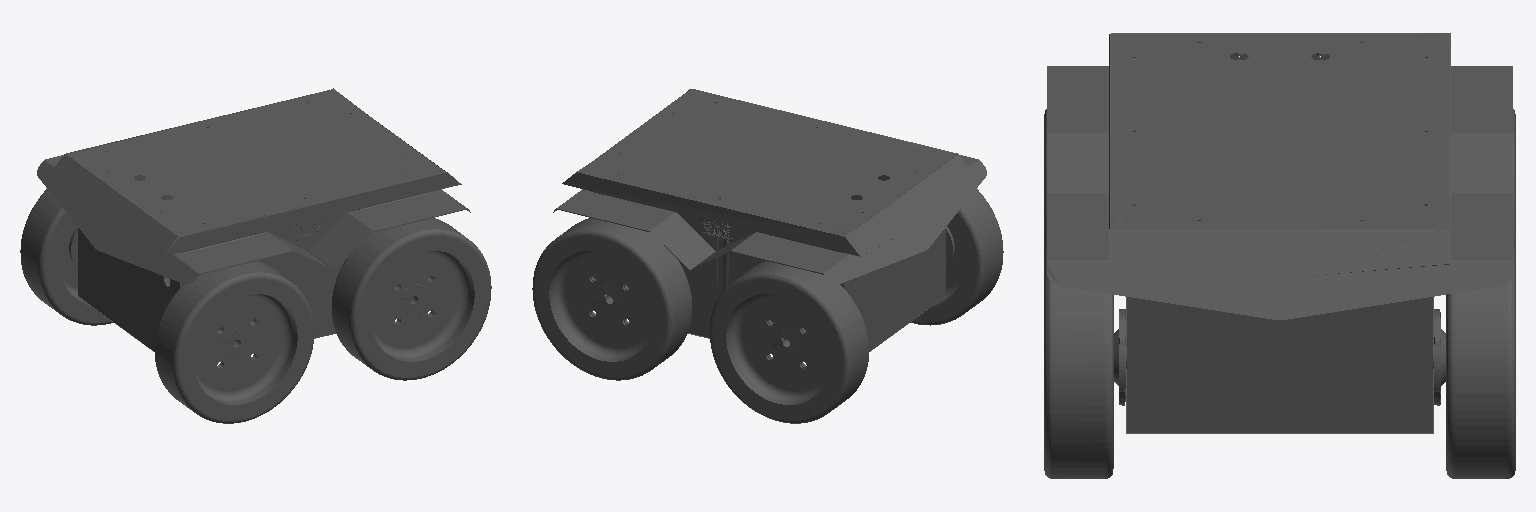
robot.urdf — yhs_chassis_description:
<?xml version="1.0" ?>
<robot name="yhs_chassis_description">

<!-- Init colour -->
<material name="black">
<color rgba="0.0 0.0 0.0 1.0"/>
</material>

<material name="dark">
<color rgba="0.3 0.3 0.3 1.0"/>
</material>

<material name="light_black">
<color rgba="0.4 0.4 0.4 1.0"/>
</material>

<material name="blue">
<color rgba="0.0 0.0 0.8 1.0"/>
</material>

<material name="green">
<color rgba="0.0 0.8 0.0 1.0"/>
</material>

<material name="grey">
<color rgba="0.5 0.5 0.5 1.0"/>
</material>

<material name="orange">
<color rgba="1.0 0.4235 0.0392 1.0"/>
</material>

<material name="brown">
<color rgba="0.8706 0.8118 0.7647 1.0"/>
</material>

<material name="red">
<color rgba="0.8 0.0 0.0 1.0"/>
</material>

<material name="white">
<color rgba="1.0 1.0 1.0 1.0"/>
</material>

<link name="base_footprint"/>

<joint name="base_joint" type="fixed">
	<parent link="base_footprint"/>
	<child link="base_link" />
    <origin xyz="0 0 0.010" rpy="0 0 0"/>
</joint>

<link name="base_link">
    <visual>
      <origin
        xyz="0 0 0"
        rpy="0 0 0" />
      <geometry>
        <mesh
          filename="package://yhs_chassis_description/meshes/DGT-001M.STL"/>
      </geometry>
		 <material name="light_black"/>
    </visual>
	<collision>
      <origin xyz="-0.064 0 0.047" rpy="0 0 0"/>
      <geometry>
        <box size="0.266 0.266 0.094"/>
      </geometry>
    </collision>
    
    <inertial>
      <origin xyz="0 0 0" rpy="0 0 0"/>
      <mass value="1.3729096e+00"/>
      <inertia ixx="8.7002718e-03" ixy="-4.7576583e-05" ixz="1.1160499e-04"
               iyy="8.6195418e-03" iyz="-3.5422299e-06"
               izz="1.4612727e-02" />
    </inertial>
</link>

<joint name="wheel_left_joint" type="fixed">
    <parent link="base_link"/>
    <child link="wheel_left_link"/>
    <origin xyz="0.0 0.144 0.023" rpy="-1.57 0 0"/>
    <axis xyz="0 0 1"/>
  </joint>

  <link name="wheel_left_link">
    <visual>
      <origin xyz="0 0 0" rpy="1.57 0 0"/>
      <geometry>
        <mesh filename="package://yhs_chassis_description/meshes/wheels/left_tire.stl" scale="0.001 0.001 0.001"/>
      </geometry>
      <material name="dark"/>
    </visual>

    <collision>
      <origin xyz="0 0 0" rpy="0 0 0"/>
      <geometry>
        <cylinder length="0.018" radius="0.033"/>
      </geometry>
    </collision>

    <inertial>
      <origin xyz="0 0 0" />
      <mass value="2.8498940e-02" />
      <inertia ixx="1.1175580e-05" ixy="-4.2369783e-11" ixz="-5.9381719e-09"
               iyy="1.1192413e-05" iyz="-1.4400107e-11"
               izz="2.0712558e-05" />
      </inertial>
  </link>

<!-- continuous -->
  <joint name="wheel_right_joint" type="fixed">
    <parent link="base_link"/>
    <child link="wheel_right_link"/>
    <origin xyz="0.0 -0.144 0.023" rpy="-1.57 0 0"/>
    <axis xyz="0 0 1"/>
  </joint>

  <link name="wheel_right_link">
    <visual>
      <origin xyz="0 0 0" rpy="1.57 0 0"/>
      <geometry>
        <mesh filename="package://yhs_chassis_description/meshes/wheels/right_tire.stl" scale="0.001 0.001 0.001"/>
      </geometry>
      <material name="dark"/>
    </visual>

    <collision>
      <origin xyz="0 0 0" rpy="0 0 0"/>
      <geometry>
        <cylinder length="0.018" radius="0.033"/>
      </geometry>
    </collision>

    <inertial>
      <origin xyz="0 0 0" />
      <mass value="2.8498940e-02" />
      <inertia ixx="1.1175580e-05" ixy="-4.2369783e-11" ixz="-5.9381719e-09"
               iyy="1.1192413e-05" iyz="-1.4400107e-11"
               izz="2.0712558e-05" />
      </inertial>
  </link>

  <joint name="caster_back_right_joint" type="fixed">
    <parent link="base_link"/>
    <child link="caster_back_right_link"/>
    <origin xyz="-0.177 -0.064 -0.004" rpy="-1.57 0 0"/>
  </joint>

  <link name="caster_back_right_link">
    <collision>
      <origin xyz="0 0.001 0" rpy="0 0 0"/>
      <geometry>
        <mesh filename="package://yhs_chassis_description/meshes/wheels/right_tire.stl" scale="0.001 0.001 0.001"/>
      </geometry>
      <material name="dark"/>
    </collision>

    <inertial>
      <origin xyz="0 0 0" />
	  <mass value="2.8498940e-02" />
      <inertia ixx="1.1175580e-05" ixy="-4.2369783e-11" ixz="-5.9381719e-09"
               iyy="1.1192413e-05" iyz="-1.4400107e-11"
               izz="2.0712558e-05" />
    </inertial>
  </link>

  <joint name="caster_back_left_joint" type="fixed">
    <parent link="base_link"/>
    <child link="caster_back_left_link"/>
    <origin xyz="-0.177 0.064 -0.004" rpy="-1.57 0 0"/>
  </joint>

  <link name="caster_back_left_link">
    <collision>
      <origin xyz="0 0.001 0" rpy="0 0 0"/>
      <geometry>
        <mesh filename="package://yhs_chassis_description/meshes/wheels/left_tire.stl" scale="0.001 0.001 0.001"/>
      </geometry>
      <material name="dark"/>
    </collision>

    <inertial>
      <origin xyz="0 0 0" />
	  <mass value="2.8498940e-02" />
      <inertia ixx="1.1175580e-05" ixy="-4.2369783e-11" ixz="-5.9381719e-09"
               iyy="1.1192413e-05" iyz="-1.4400107e-11"
               izz="2.0712558e-05" />
      </inertial>
  </link>
 <joint name="imu_joint" type="fixed">
    <parent link="base_link"/>
    <child link="imu_link"/>
    <origin xyz="0.0 0 0.068" rpy="0 0 0"/>
  </joint>

  <link name="imu_link"/>

  <joint name="scan_joint" type="fixed">
    <parent link="base_link"/>
    <child link="base_scan"/>
    <origin xyz="-0.064 0 0.122" rpy="0 0 3.14"/>
  </joint>

  <link name="base_scan">
    <visual>
      <origin xyz="0 0 0.7" rpy="0 0 0"/>
      <geometry>
        <mesh filename="package://yhs_chassis_description/meshes/VLP16_scan.stl" scale="0.003 0.003 0.003"/>
      </geometry>
      <material name="dark"/>
    </visual>

    <collision>
      <origin xyz="0.015 0 0.025" rpy="0 0 0"/>
      <geometry>
        <cylinder length="0.0315" radius="0.055"/>
      </geometry>
    </collision>

    <inertial>
      <mass value="0.114" />
      <origin xyz="0 0 0" />
      <inertia ixx="0.001" ixy="0.0" ixz="0.0"
               iyy="0.001" iyz="0.0"
               izz="0.001" />
    </inertial>
  </link>

	<!-- REALSENSE D435 -->
  <sensor_d435 parent="base_link">
    <origin xyz="0.049 0.0 0.1795" rpy="0 0 0"/>
  </sensor_d435>

</robot>

--- Facts derived from the render (not from the file) ---
3 views of the same robot in one strip: view 1: azimuth 30°, elevation 25°; view 2: azimuth 150°, elevation 25°; view 3: azimuth 270°, elevation 25° (orthographic).
Model yhs_chassis_description with 8 links and 7 joints (7 fixed), rooted at base_footprint, posed all joints at 0.
Visible links, largest first — view 1: base_link; view 2: base_link; view 3: base_link.
Boxes of the visible links, left/top/right/bottom form: base_link: left=20, top=88, right=491, bottom=423; base_link: left=532, top=89, right=1003, bottom=423; base_link: left=1044, top=33, right=1515, bottom=478.
Size in the robot's own frame: 0.6781 by 0.58 by 0.3706 metres.
Meshes: 4 distinct files referenced, 1 mesh visuals loaded (1 binary STL); not drawn: 3 (reference not matched to a file when rendering).